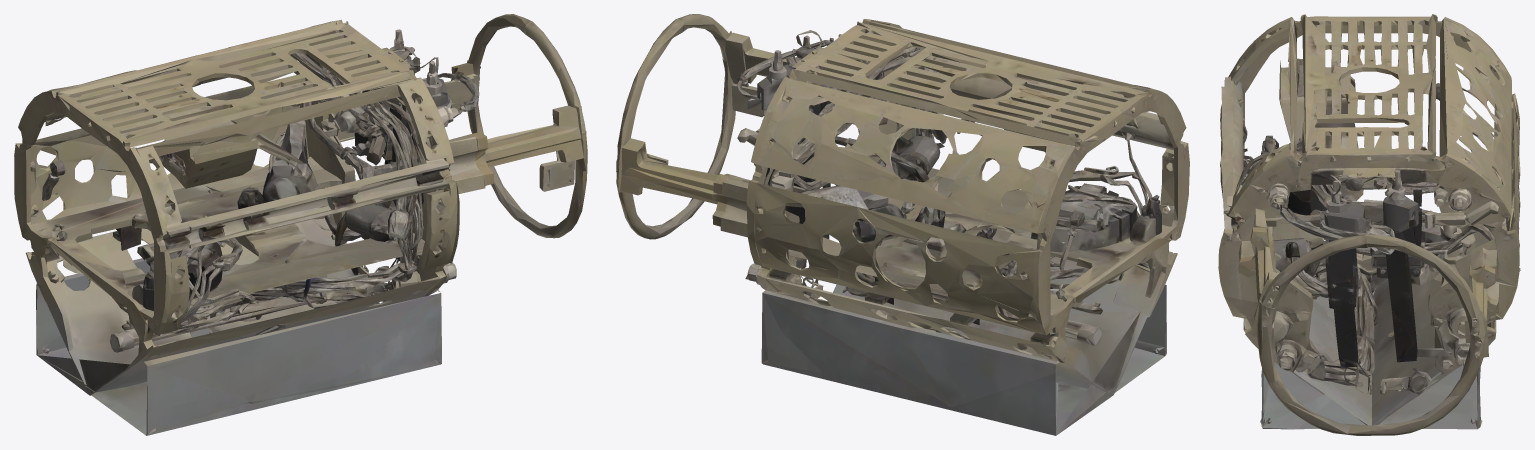
Rendered from flex_mdca.glb.
3 views of the same model, side by side, from view 1: azimuth 30°, elevation 25°; view 2: azimuth 150°, elevation 25°; view 3: azimuth 270°, elevation 25° (orthographic). The views are drawn at different scales.
Parts seen in each view (by area): view 1: flex_mdca; view 2: flex_mdca; view 3: flex_mdca.
Boxes of the visible parts, x1=… form: flex_mdca: x1=14, y1=14, x2=587, y2=435; flex_mdca: x1=616, y1=14, x2=1189, y2=435; flex_mdca: x1=1218, y1=14, x2=1520, y2=435.
Size of the model in its own units: 0.62 by 0.3726 by 0.3718.
Materials: 1 (1 with a texture image).
